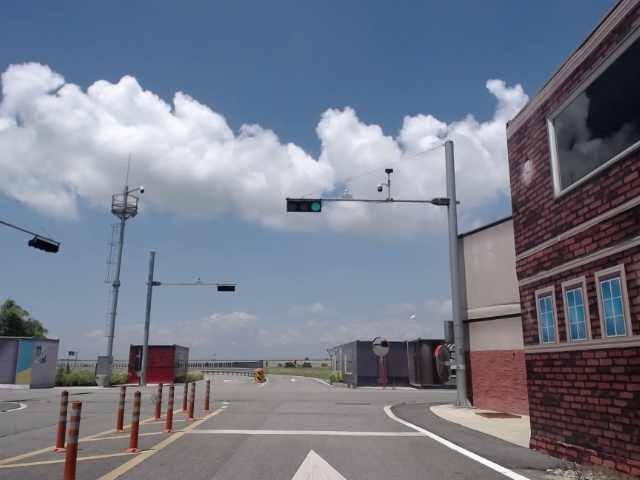green_3: (288, 199, 320, 212)
